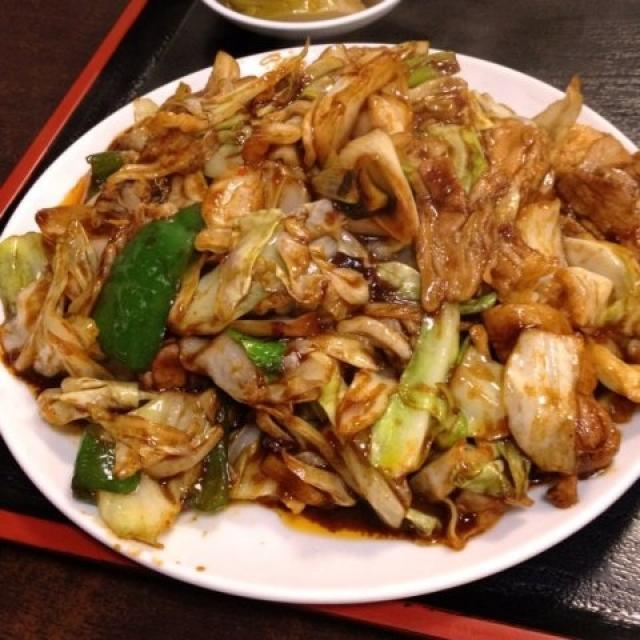猪肉菜式: (21, 70, 614, 566)
